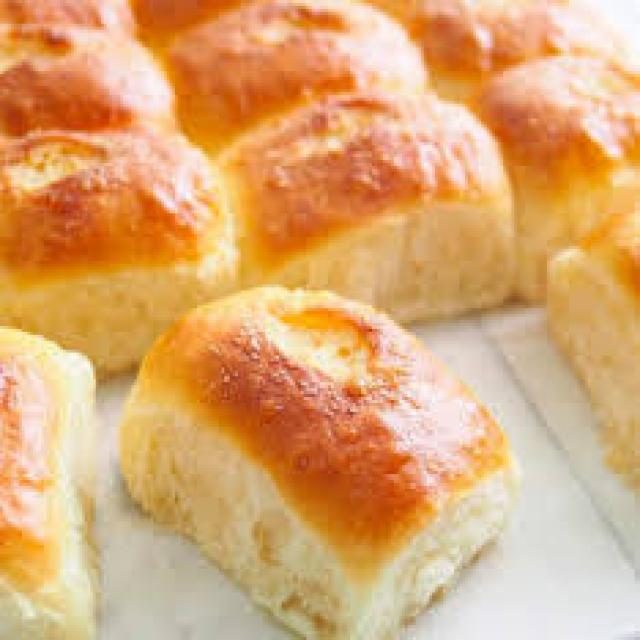organic waste: (112, 282, 514, 637), (216, 83, 514, 326), (0, 116, 235, 382), (470, 50, 638, 302), (162, 0, 432, 145), (0, 320, 96, 637), (542, 198, 637, 486), (400, 0, 638, 80), (0, 36, 175, 119), (0, 0, 134, 30)
